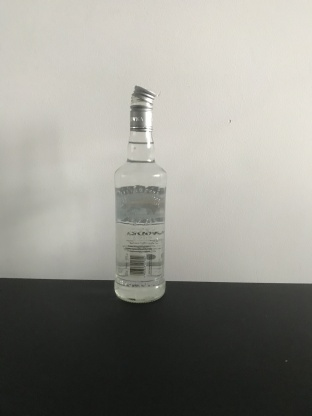nakretka: (128, 83, 157, 132)
